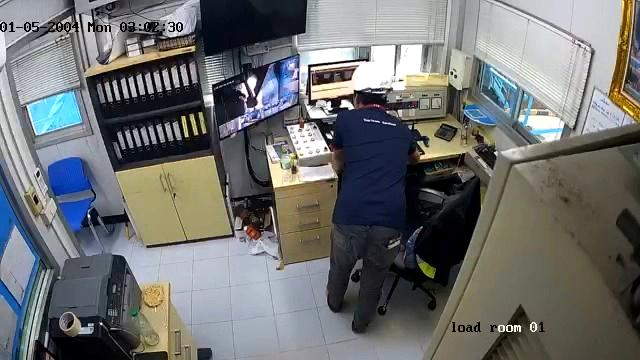Head: (350, 62, 394, 108)
People: (326, 61, 420, 335)
